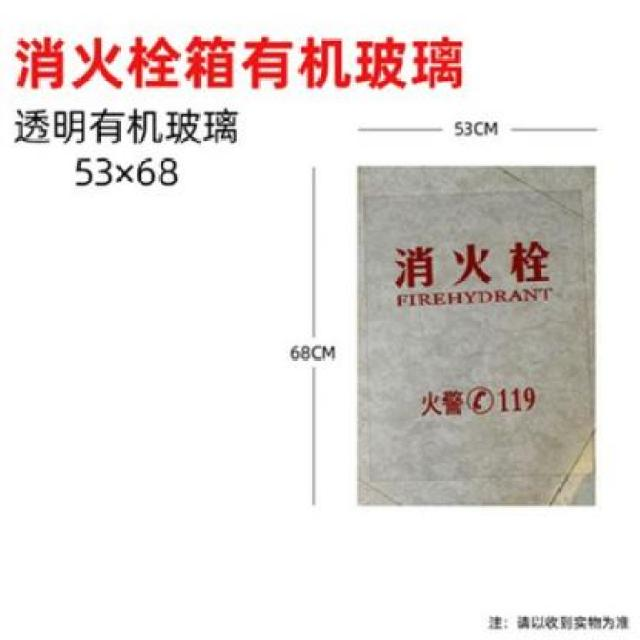firehydrant: (351, 159, 601, 513)
